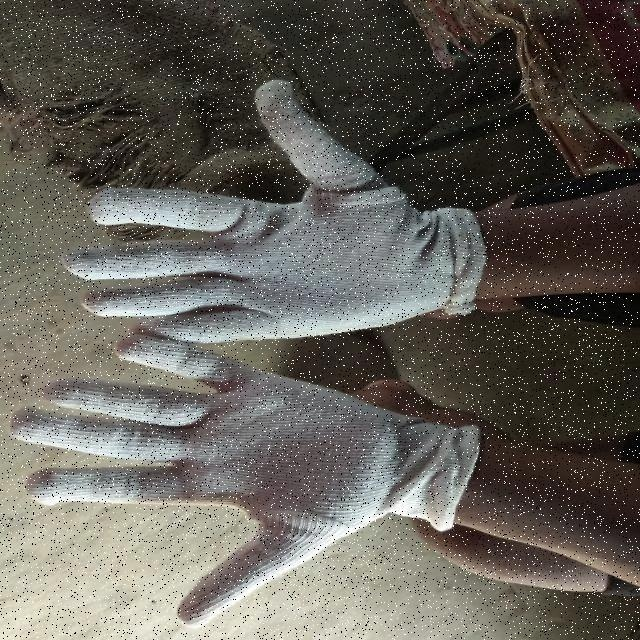Guantes: (35, 340, 454, 590), (87, 82, 458, 352)
